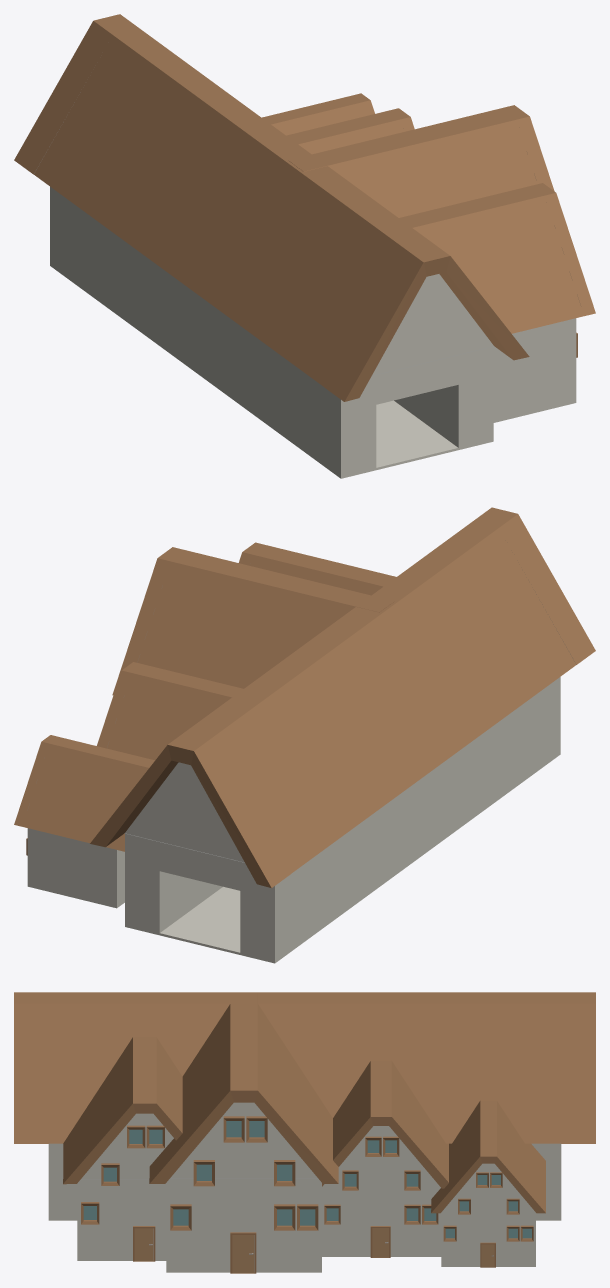
Rendered from housea.fbx.
3 views of the same model, one above another, from view 1: azimuth 30°, elevation 25°; view 2: azimuth 150°, elevation 25°; view 3: azimuth 270°, elevation 25° (orthographic). The views are drawn at different scales.
Parts seen in each view (by area): view 1: polySurface15, pCube25, pCube26, pCube27, pCube28; view 2: polySurface15, pCube26, pCube28, pCube27, pCube25; view 3: polySurface15, pCube26, pCube27, pCube25, pCube28.
Boxes of the visible parts, left/top/right/bottom form: polySurface15: left=14, top=14, right=529, bottom=478; pCube25: left=399, top=183, right=595, bottom=422; pCube26: left=288, top=105, right=554, bottom=217; pCube27: left=286, top=108, right=414, bottom=154; pCube28: left=262, top=93, right=374, bottom=135; polySurface15: left=90, top=507, right=595, bottom=963; pCube26: left=112, top=547, right=394, bottom=695; pCube28: left=14, top=735, right=154, bottom=908; pCube27: left=97, top=662, right=243, bottom=760; pCube25: left=239, top=542, right=396, bottom=595; polySurface15: left=14, top=992, right=595, bottom=1220; pCube26: left=149, top=993, right=338, bottom=1273; pCube27: left=322, top=1060, right=448, bottom=1257; pCube25: left=63, top=1037, right=182, bottom=1261; pCube28: left=431, top=1100, right=545, bottom=1267.
Bounding box in the file's own units: 2.59 × 1.73 × 4.8.
